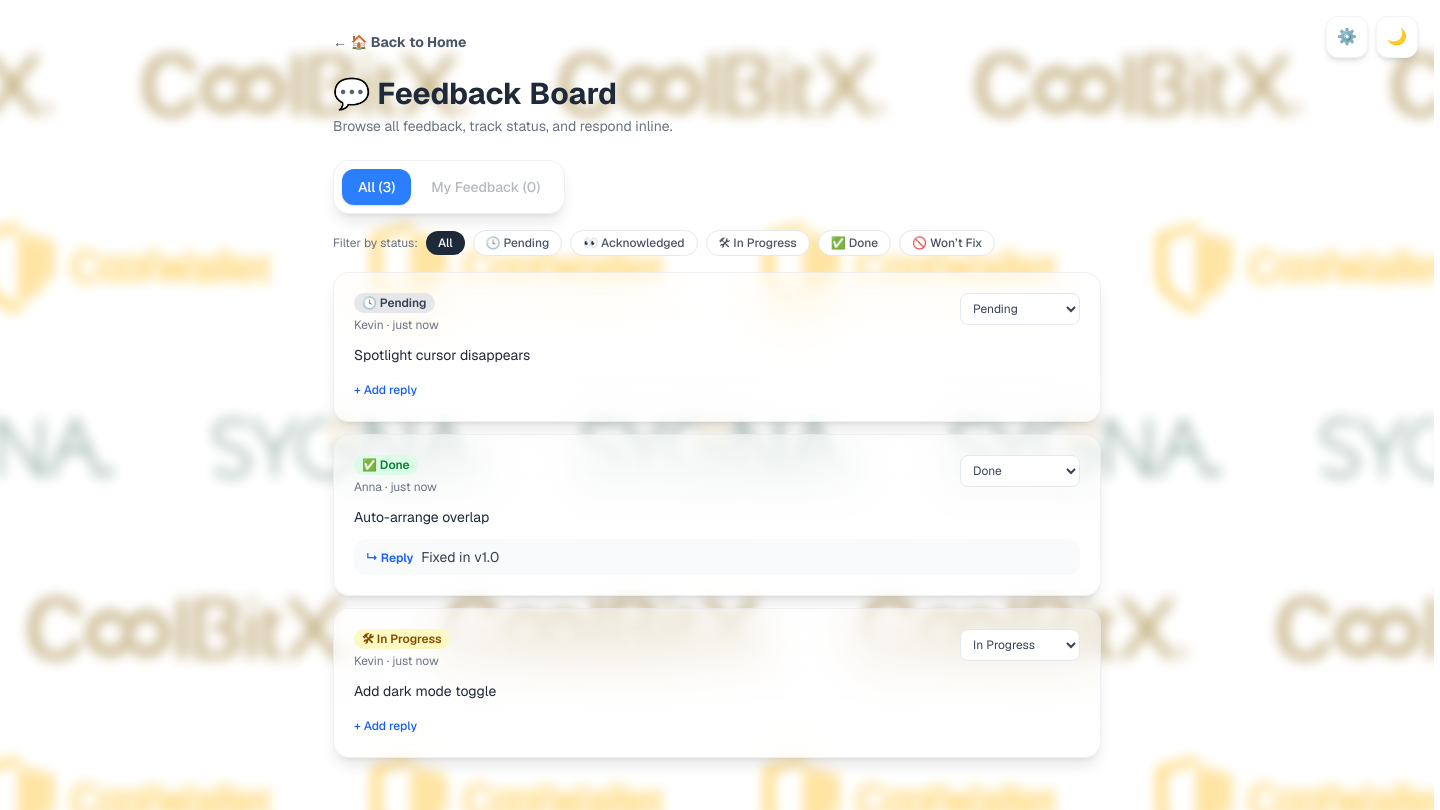
Scenario: FeedbackDashboard — status filter › filters list when a status chip is clicked
Check: the text "Spotlight cursor disappears" is shown, box [354, 346, 530, 364]
Click "Done" filter chip — there will be two "Done" texts (filter + status badge)
Click the button "✅ Done" at (854, 243), box [818, 230, 891, 256]
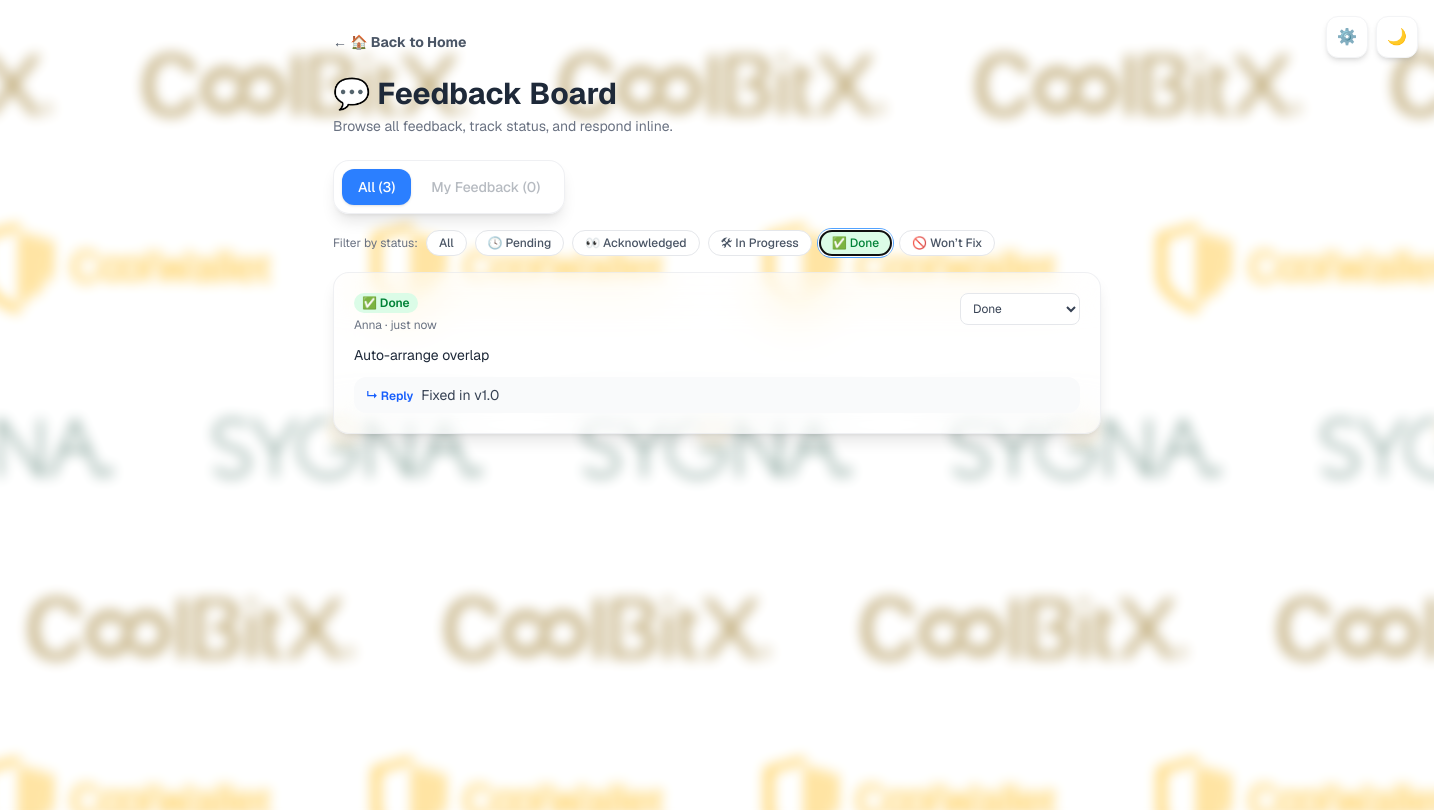
Check: the text "Auto-arrange overlap" is shown, box [354, 346, 489, 364]
Check: the text "Spotlight cursor disappears" is gone
